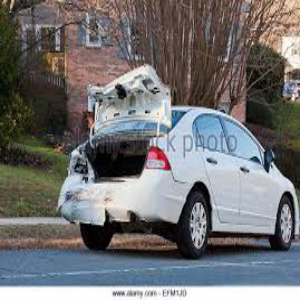bumper: (53, 186, 157, 226)
